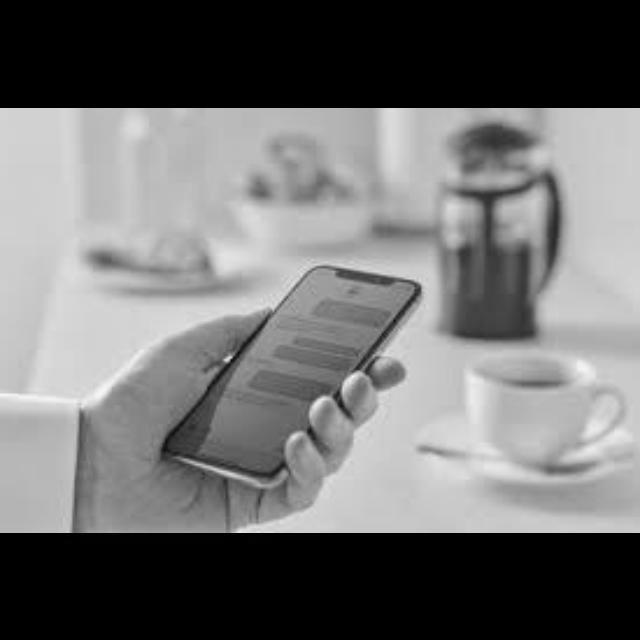fake: (154, 258, 431, 504)
